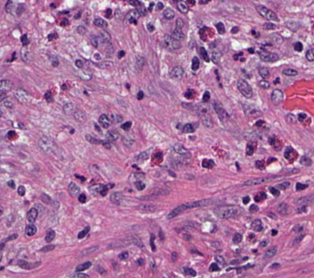nucleus: (167, 199, 212, 217), (256, 5, 278, 21), (213, 101, 228, 122), (214, 206, 238, 218), (237, 79, 252, 97), (163, 35, 180, 49), (243, 177, 271, 185), (38, 136, 52, 151), (173, 143, 189, 155), (259, 51, 278, 61), (271, 89, 283, 104), (108, 239, 130, 247), (199, 27, 212, 40), (15, 89, 28, 102), (127, 10, 139, 23), (171, 28, 184, 40), (170, 66, 183, 78), (99, 114, 111, 127), (68, 182, 79, 196), (20, 47, 30, 62), (90, 35, 102, 47), (86, 134, 102, 143), (110, 192, 122, 204), (130, 236, 143, 247), (199, 47, 209, 61), (27, 208, 37, 222), (177, 1, 188, 13), (0, 80, 11, 92), (63, 102, 74, 114), (73, 110, 85, 121), (270, 137, 281, 149), (78, 226, 89, 238), (136, 2, 146, 15), (93, 17, 106, 27), (137, 204, 155, 211), (163, 8, 174, 19), (251, 219, 262, 230), (25, 224, 36, 235), (202, 115, 212, 127), (106, 130, 118, 140), (254, 191, 266, 201), (211, 50, 220, 63), (246, 142, 255, 155), (136, 55, 144, 69), (98, 31, 109, 41), (258, 67, 268, 78), (137, 151, 148, 161), (41, 193, 52, 203), (183, 123, 195, 132), (202, 159, 214, 168), (45, 229, 54, 241), (97, 61, 112, 68), (191, 57, 199, 70), (184, 89, 195, 98), (259, 79, 269, 88), (121, 121, 131, 130), (153, 152, 162, 162), (269, 187, 279, 196), (216, 22, 224, 33), (50, 55, 58, 66), (44, 91, 52, 102), (111, 114, 122, 122), (5, 0, 12, 12), (21, 34, 28, 46), (123, 136, 132, 145), (255, 160, 264, 169), (2, 99, 12, 107), (233, 233, 241, 243), (150, 234, 155, 250), (202, 91, 209, 102), (75, 59, 83, 68), (135, 181, 144, 189), (99, 186, 107, 195), (78, 193, 86, 202), (176, 18, 183, 28), (7, 131, 15, 139), (48, 33, 57, 40), (17, 186, 24, 195), (106, 45, 112, 55), (6, 234, 16, 240), (147, 23, 154, 31), (77, 26, 85, 33), (102, 141, 110, 148), (259, 239, 267, 246), (263, 23, 274, 28), (156, 2, 163, 9), (242, 196, 249, 203), (51, 201, 58, 208), (105, 9, 111, 17), (60, 19, 68, 25), (118, 50, 124, 58), (137, 91, 143, 99), (8, 180, 14, 188), (249, 205, 257, 211), (231, 27, 238, 33), (148, 2, 153, 10), (187, 0, 194, 4), (199, 1, 207, 4), (272, 230, 276, 234)
